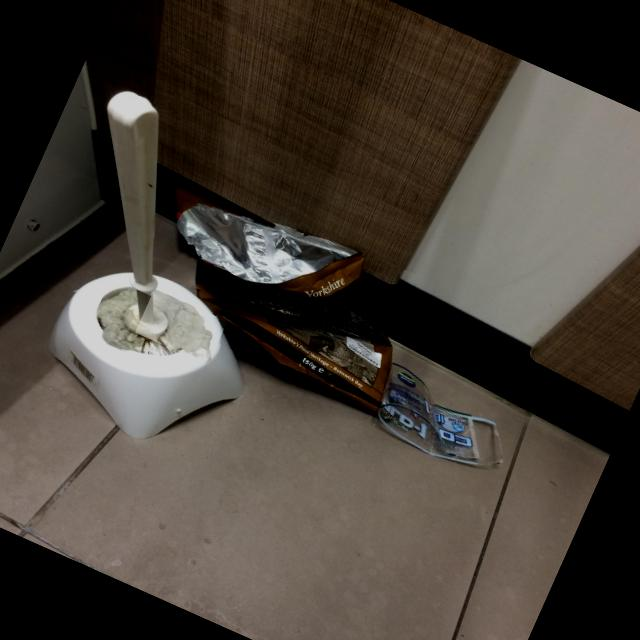Crisp packet: (175, 186, 393, 415)
Paper bag: (153, 292, 212, 360), (97, 290, 158, 354)
Plastic film: (378, 363, 504, 467)
